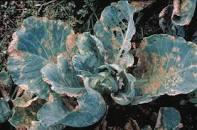Bok-Choy-Diseased: (125, 35, 197, 98)
